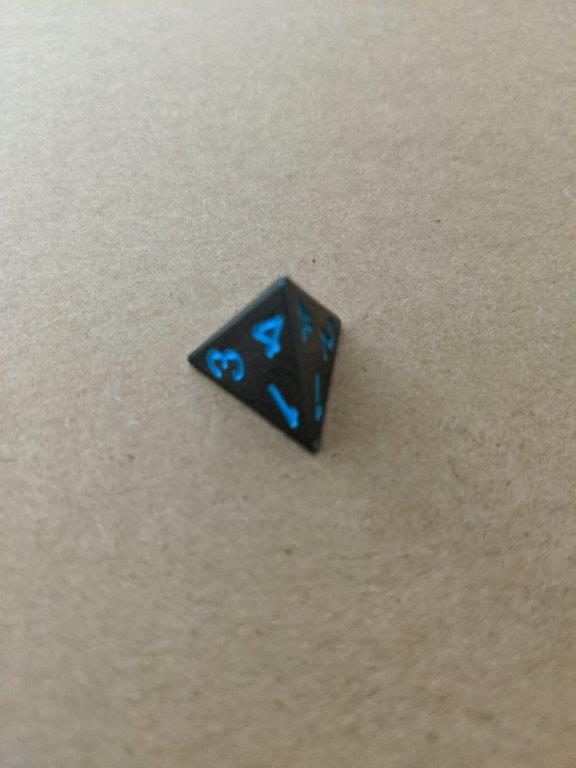d4-4: (186, 273, 343, 458)
